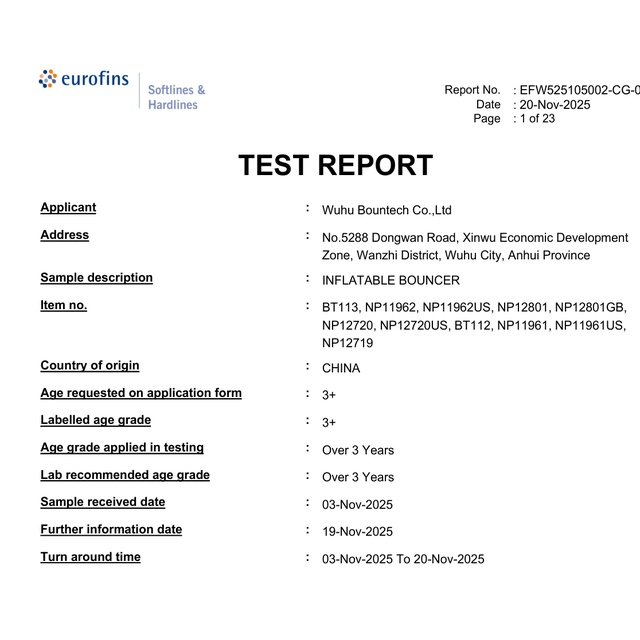eurofins: (33, 65, 135, 93)
